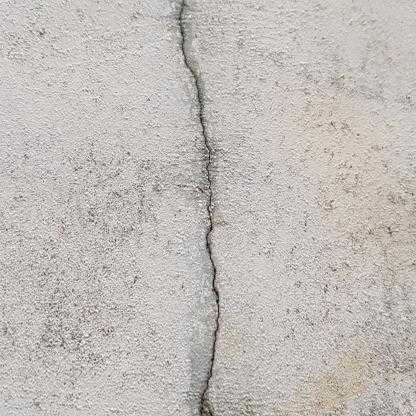crack: (179, 0, 219, 415)
